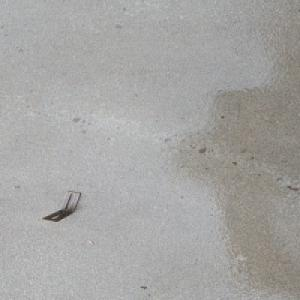MetalPart: (40, 190, 82, 222)
